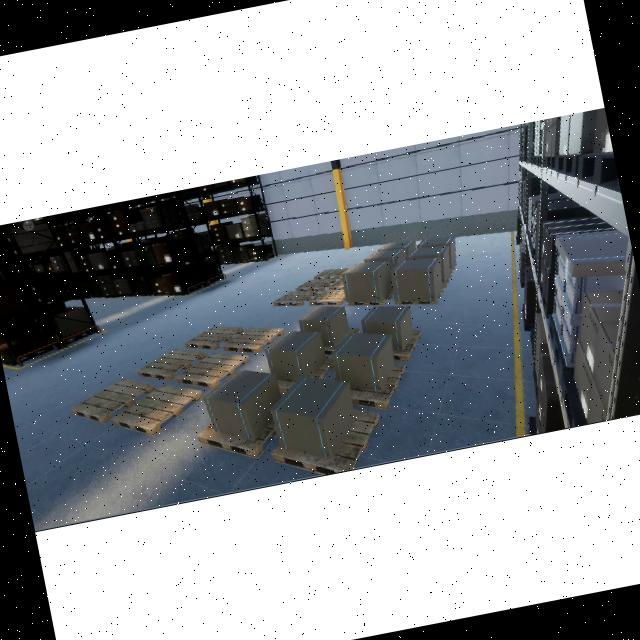wooden_pallet: (270, 411, 381, 475), (112, 385, 202, 435), (71, 378, 155, 424), (199, 419, 277, 458), (176, 353, 249, 389), (351, 364, 406, 409), (137, 348, 207, 381), (221, 327, 285, 353), (185, 326, 243, 350), (392, 329, 423, 361), (395, 286, 445, 304), (348, 287, 395, 305), (272, 291, 319, 306), (309, 289, 347, 306), (296, 279, 336, 292), (313, 268, 349, 280), (329, 278, 345, 290)
